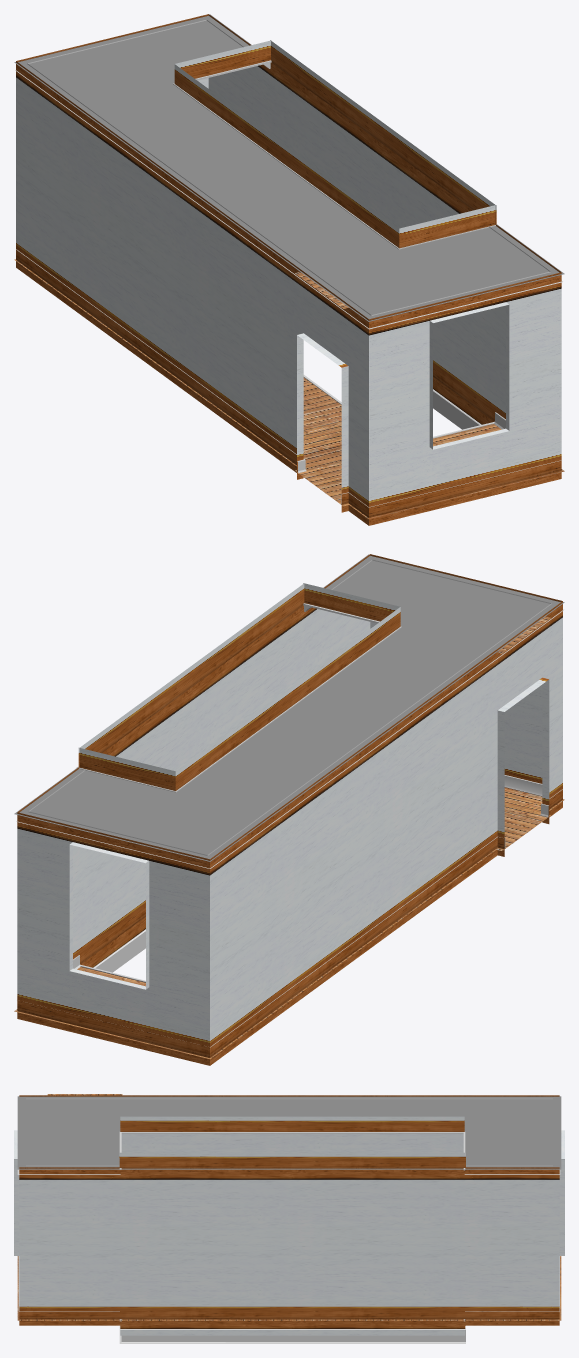
Rendered from BUILDING_stairwell_01.FBX.
The picture shows the model from 3 angles, top to bottom: view 1: azimuth 30°, elevation 25°; view 2: azimuth 150°, elevation 25°; view 3: azimuth 270°, elevation 25°; orthographic projection. The views are drawn at different scales.
Parts seen in each view (by area): view 1: BUILDING_stairwell_01_walls, BUILDING_stairwell_01_ceiling, BUILDING_stairwell_01_floor, BUILDING_stairwell_01_topEdge, BUILDING_stairwell_01_stairsEdgeTop, BUILDING_stairwell_01_plinthe, BUILDING_stairwell_01_stairsTransition; view 2: BUILDING_stairwell_01_walls, BUILDING_stairwell_01_ceiling, BUILDING_stairwell_01_floor, BUILDING_stairwell_01_topEdge, BUILDING_stairwell_01_plinthe, BUILDING_stairwell_01_stairsEdgeTop, BUILDING_stairwell_01_stairsTransition; view 3: BUILDING_stairwell_01_walls, BUILDING_stairwell_01_ceiling, BUILDING_stairwell_01_stairsTransition, BUILDING_stairwell_01_topEdge, BUILDING_stairwell_01_floor, BUILDING_stairwell_01_stairsEdgeTop, BUILDING_stairwell_01_plinthe.
Boxes of the visible parts, x1=… form: BUILDING_stairwell_01_walls: x1=16, y1=14, x2=561, y2=525; BUILDING_stairwell_01_ceiling: x1=14, y1=14, x2=564, y2=321; BUILDING_stairwell_01_floor: x1=14, y1=259, x2=564, y2=518; BUILDING_stairwell_01_topEdge: x1=15, y1=19, x2=562, y2=329; BUILDING_stairwell_01_stairsEdgeTop: x1=173, y1=60, x2=497, y2=249; BUILDING_stairwell_01_plinthe: x1=16, y1=249, x2=561, y2=507; BUILDING_stairwell_01_stairsTransition: x1=433, y1=389, x2=481, y2=429; BUILDING_stairwell_01_walls: x1=17, y1=554, x2=562, y2=1065; BUILDING_stairwell_01_ceiling: x1=14, y1=554, x2=564, y2=861; BUILDING_stairwell_01_floor: x1=14, y1=616, x2=564, y2=1058; BUILDING_stairwell_01_topEdge: x1=16, y1=559, x2=564, y2=868; BUILDING_stairwell_01_plinthe: x1=73, y1=775, x2=562, y2=1047; BUILDING_stairwell_01_stairsEdgeTop: x1=76, y1=603, x2=401, y2=792; BUILDING_stairwell_01_stairsTransition: x1=93, y1=929, x2=145, y2=972; BUILDING_stairwell_01_walls: x1=14, y1=1095, x2=564, y2=1335; BUILDING_stairwell_01_ceiling: x1=17, y1=1096, x2=561, y2=1169; BUILDING_stairwell_01_stairsTransition: x1=119, y1=1326, x2=465, y2=1343; BUILDING_stairwell_01_topEdge: x1=17, y1=1098, x2=560, y2=1174; BUILDING_stairwell_01_floor: x1=17, y1=1094, x2=561, y2=1320; BUILDING_stairwell_01_stairsEdgeTop: x1=119, y1=1132, x2=465, y2=1170; BUILDING_stairwell_01_plinthe: x1=18, y1=1256, x2=559, y2=1311.
Bounding box in the file's own units: 439 × 514 × 1351.
Materials: 3 (2 with a texture image).
